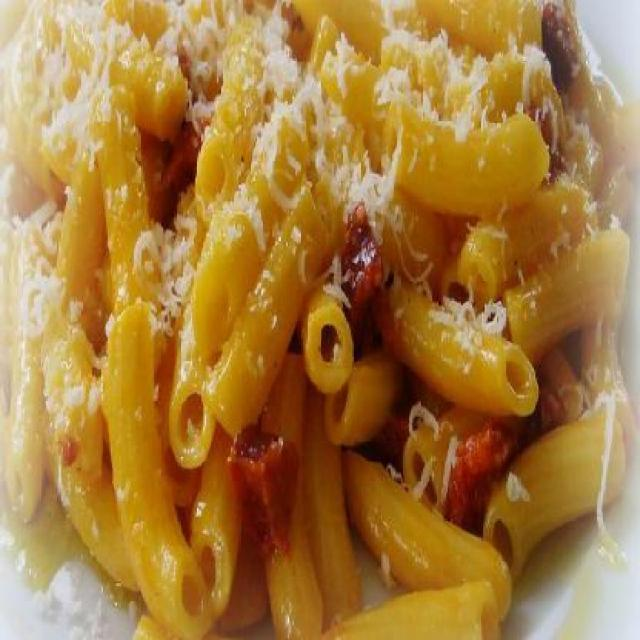Pasta with carbonara sauce: (20, 19, 631, 619)
